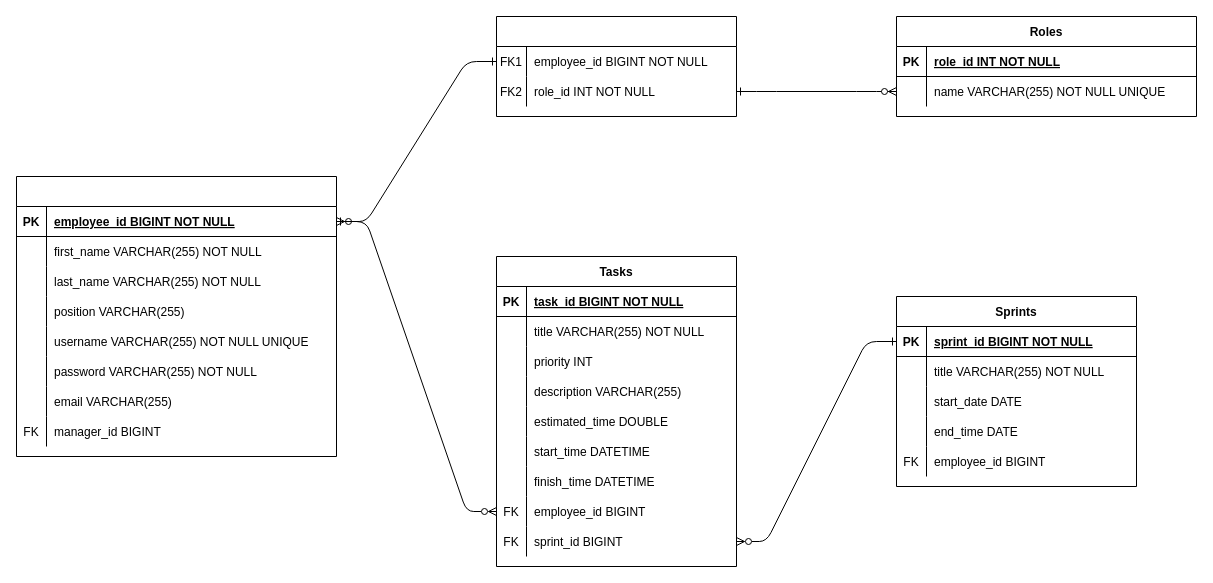
The diagram is 1213 pixels wide and 583 high, and some of its shapes have lost their labels. The box of each missing label's shape, as (x1, y1, x2, y2) in pixels:
Employees: (16, 176, 336, 456)
Employees_Roles: (496, 16, 736, 116)
